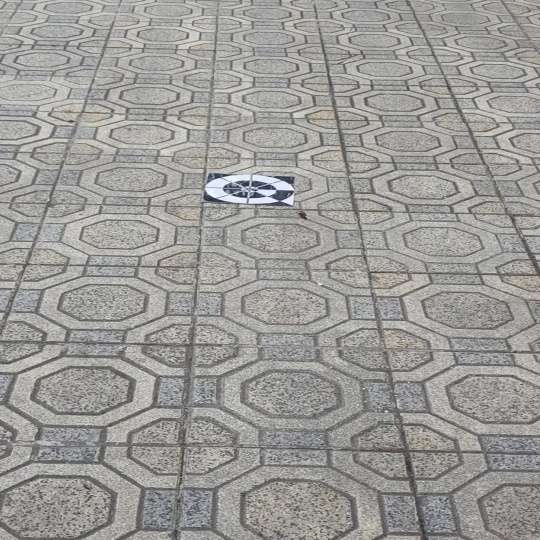landing-zone: (197, 168, 298, 209)
